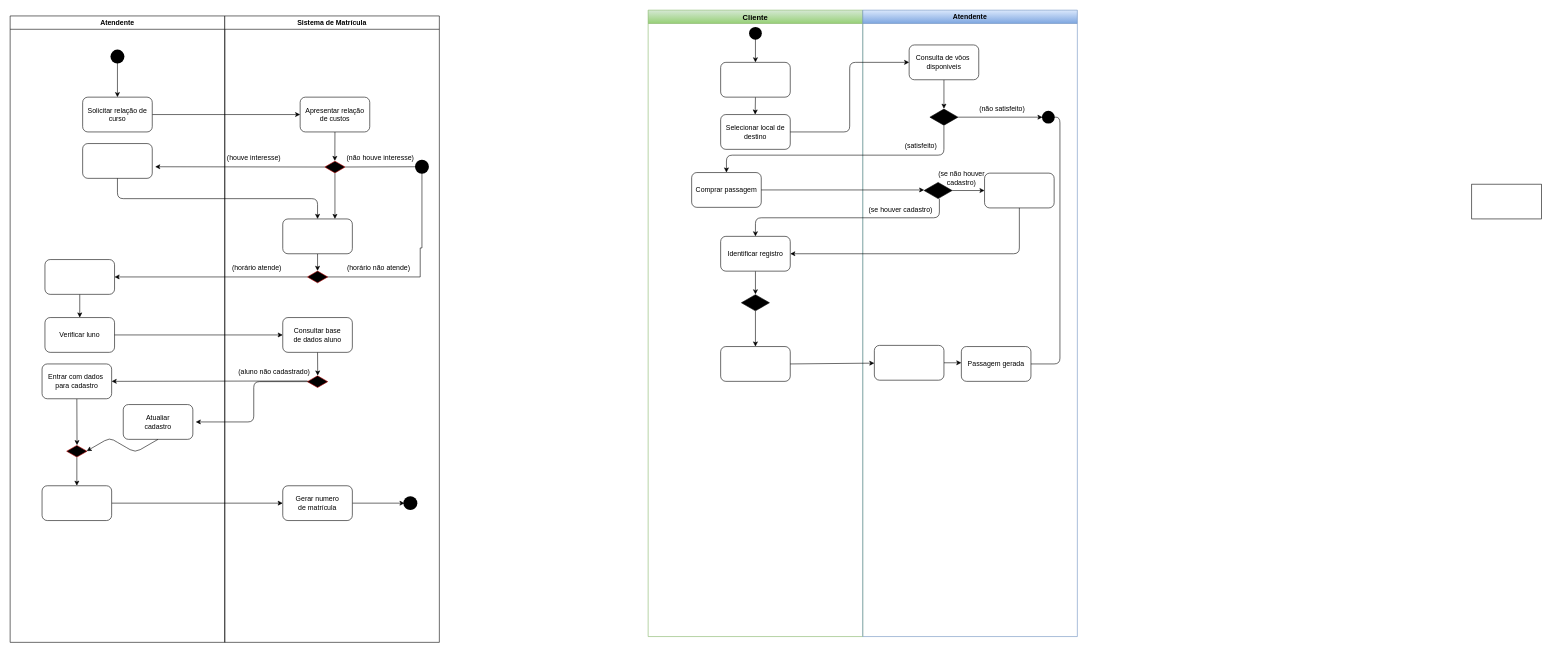
Image size: 1552x653. Some labels were removed from this diagram. Each missing label, with the centre of its shape:
Apresentar turmas em aberto: the point at 317,236
Criar um novo registro: the point at 1019,190
Pagamento Confirmado: the point at 909,362
Realizar matrícula: the point at 76,503
Selecionar Curso: the point at 117,160
Selecionar Forma de pagamento desejada: the point at 755,363
Selecionar o local de origem: the point at 755,79
Selecionar Turma: the point at 79,276
